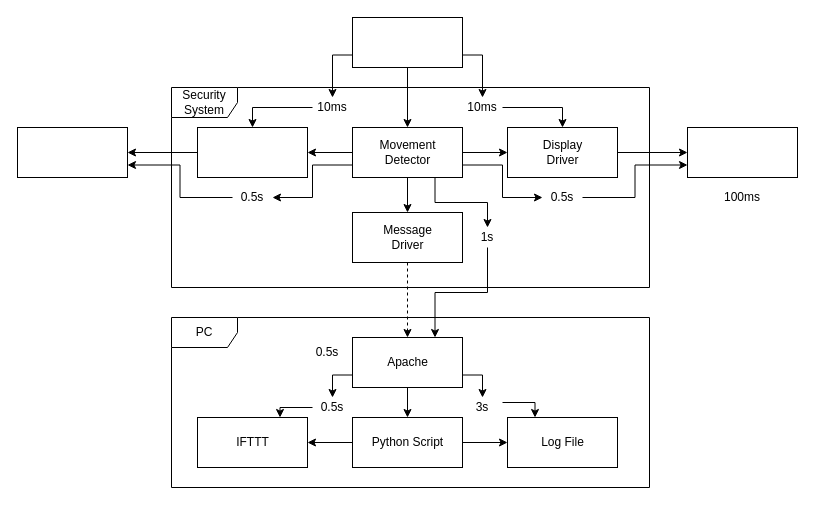
Some shapes in this 815 by 505 pixel diagram are drawn without their labels. Here are the shapes that lost their labels. From the top down, the centre of each, then its label:
pixel 407 42: Accelerometer Sensor
pixel 72 152: Speaker
pixel 252 152: Speaker Driver
pixel 742 152: Display
